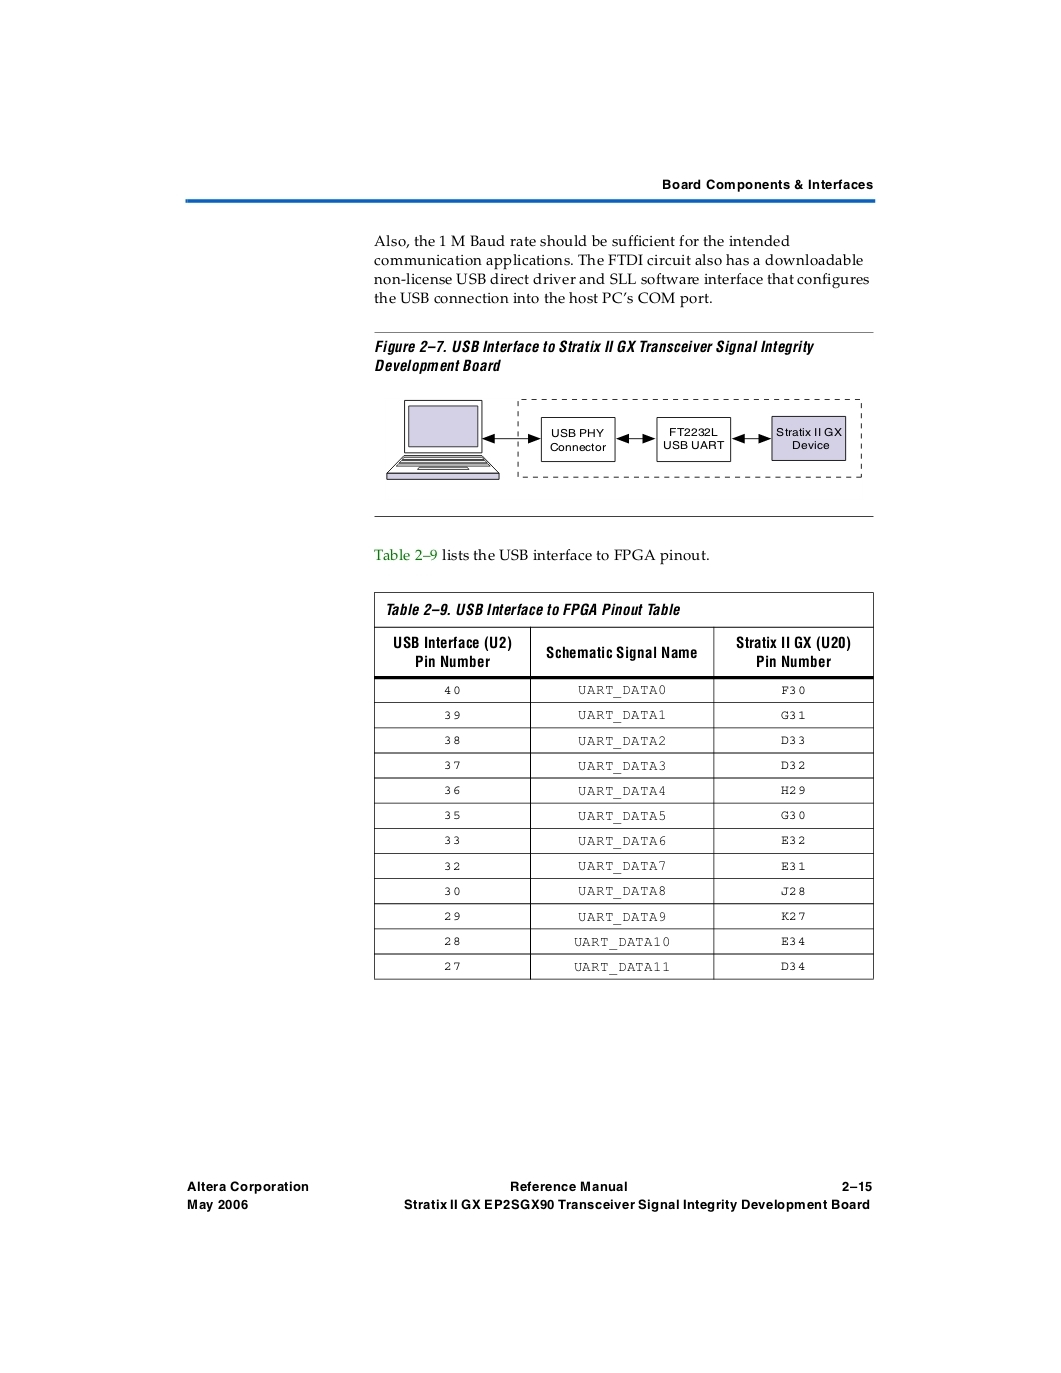Table: (374, 591, 873, 980)
figure: (386, 398, 862, 480)
